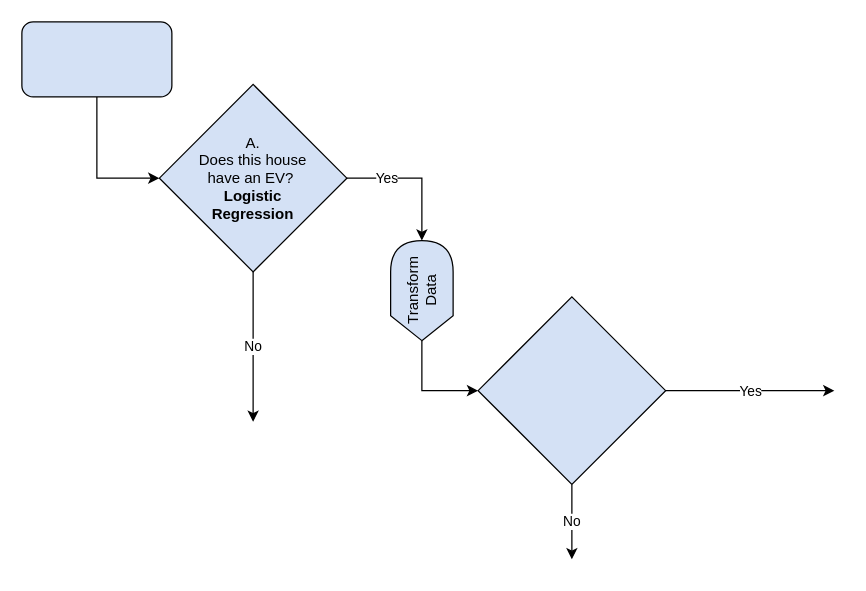
The diagram is 866 pixels wide and 591 high, and some of its shapes have lost their labels. Each missing label, with the box of its shape:
B. Was an EV charging during this interval? K-Nearest Neighbors: (477, 296, 666, 484)
EV Data: (21, 21, 172, 97)
